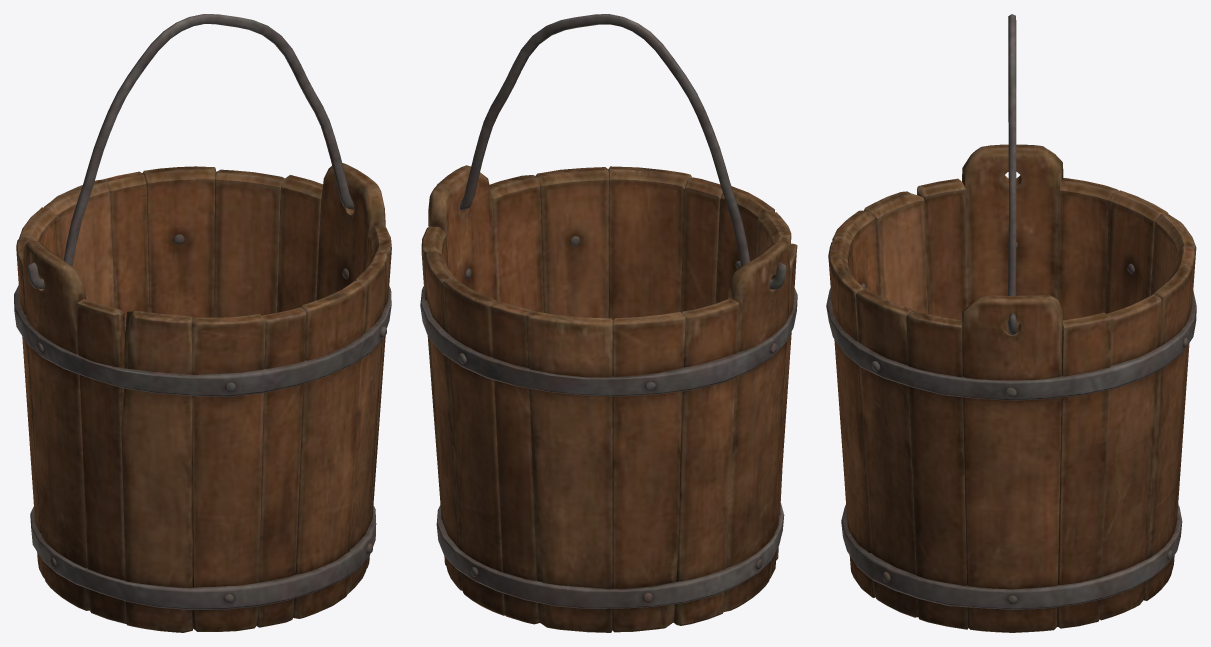
The model's file is wooden_bucket_01.glb.
3 views of the same model, side by side, from view 1: azimuth 30°, elevation 25°; view 2: azimuth 150°, elevation 25°; view 3: azimuth 270°, elevation 25° (orthographic).
Visible parts, largest first — view 1: wooden_bucket_01, wooden_bucket_01_handle; view 2: wooden_bucket_01, wooden_bucket_01_handle; view 3: wooden_bucket_01, wooden_bucket_01_handle.
Boxes of the visible parts, x1=… form: wooden_bucket_01: x1=14, y1=163, x2=391, y2=632; wooden_bucket_01_handle: x1=27, y1=14, x2=354, y2=289; wooden_bucket_01: x1=420, y1=165, x2=797, y2=632; wooden_bucket_01_handle: x1=437, y1=14, x2=786, y2=289; wooden_bucket_01: x1=826, y1=144, x2=1196, y2=632; wooden_bucket_01_handle: x1=1008, y1=14, x2=1016, y2=335.
Bounding box in the file's own units: 0.367 × 0.5499 × 0.3422.
Materials: 1 (1 with a texture image).
